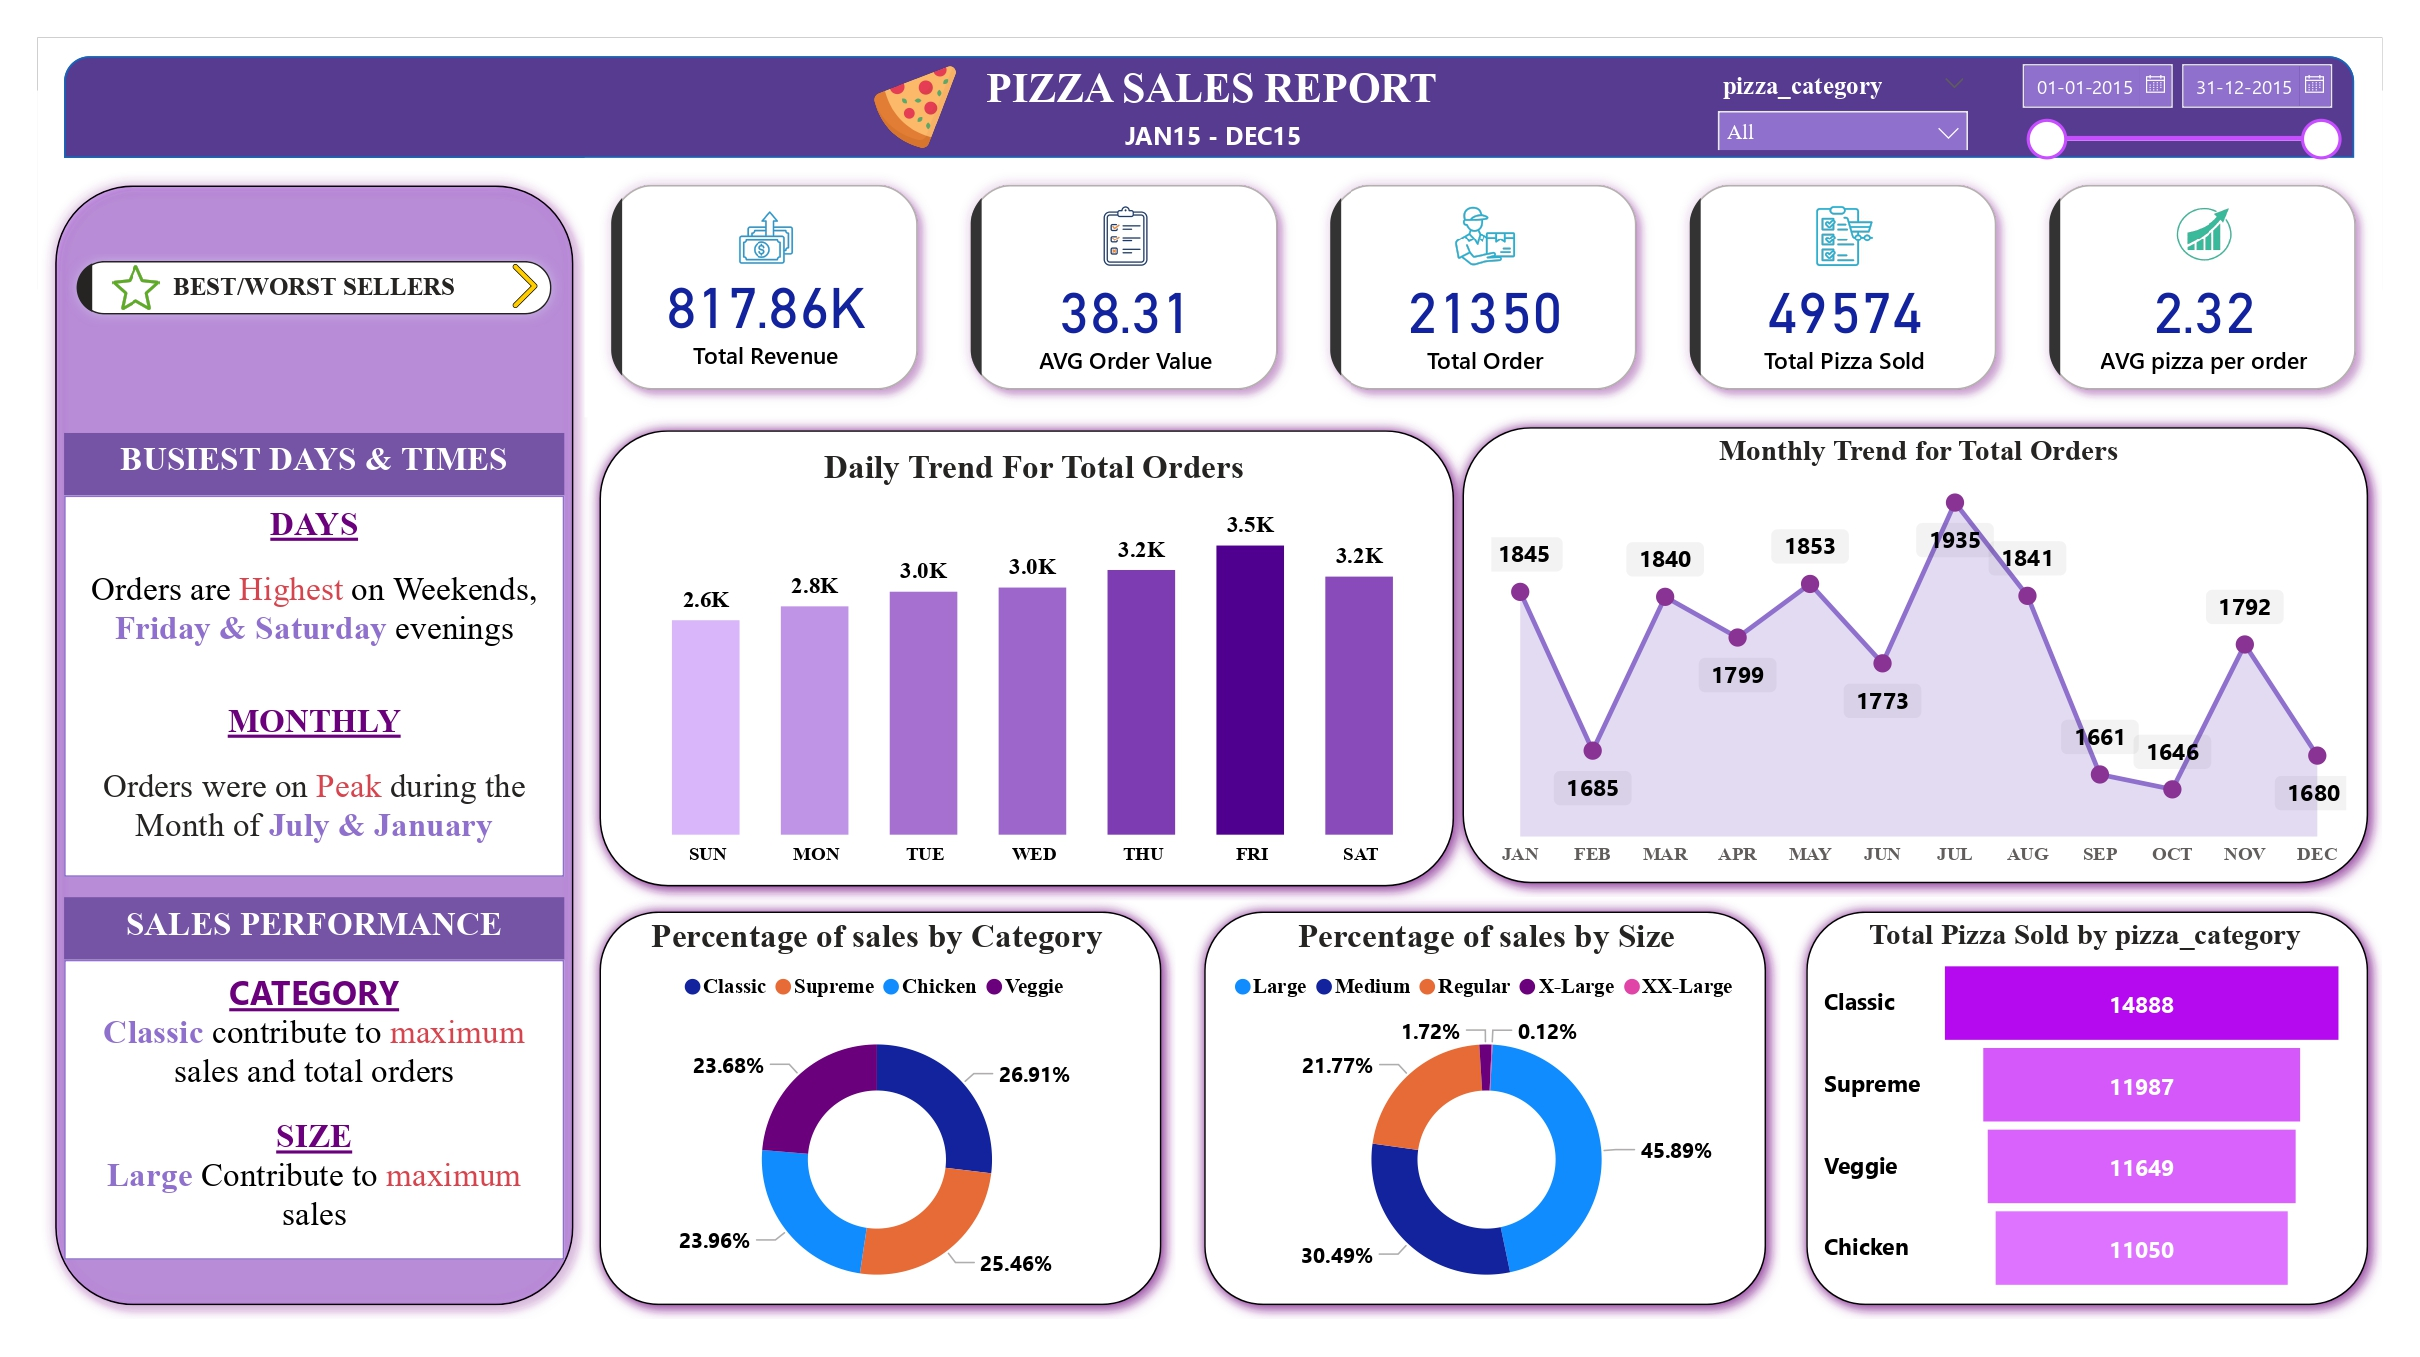

This screenshot's page, from the dashboard's own definition file:
{"tool":"powerbi","page":{"name":"HOME","canvas":[1500,820],"ordinal":0},"visuals":[{"type":"cardVisual","fields":{"Data":["pizza_sales.Total Revenue"]},"box":[350,76.7,230,165.7],"z":0,"group":"g1"},{"type":"shape","box":[16.7,11.7,1465,65],"z":0},{"type":"cardVisual","fields":{"Data":["pizza_sales.AVG Order Value"]},"box":[580,76.7,230,165.7],"z":1000,"group":"g1"},{"type":"textbox","box":[585,11.7,331.7,43.3],"z":1000},{"type":"textbox","box":[676.7,46.7,150,38.3],"z":2000},{"type":"cardVisual","fields":{"Data":["pizza_sales.Total Order"]},"box":[810,76.7,230,165.7],"z":3000,"group":"g1"},{"type":"image","box":[516.7,11.7,88.3,65],"z":3000},{"type":"shape","box":[1.7,85,350,735],"z":4000},{"type":"group","id":"g1","title":"Group 1","box":[350,76.7,1150,165.7],"z":5000},{"type":"shape","box":[350,241.7,565,310],"z":6000},{"type":"cardVisual","fields":{"Data":["pizza_sales.Total Pizza Sold"]},"box":[1040,76.7,230,165.7],"z":7000,"group":"g1"},{"type":"columnChart","title":"Daily Trend For Total Orders","fields":{"Category":["pizza_sales.Order day"],"Y":["pizza_sales.Total Order"]},"box":[373.3,263.3,528.3,273.3],"z":7000},{"type":"cardVisual","fields":{"Data":["pizza_sales.AVG pizza per order"]},"box":[1270,76.7,230,165.7],"z":8000,"group":"g1"},{"type":"shape","box":[901.7,240,598.3,310],"z":8000},{"type":"areaChart","title":"Monthly Trend for Total Orders","fields":{"Category":["pizza_sales.Order month"],"Y":["pizza_sales.Total Order"]},"box":[925,253.3,556.7,283.3],"z":9000},{"type":"shape","box":[350,550,378.3,270],"z":10000},{"type":"shape","box":[736.7,550,378.3,270],"z":11000},{"type":"shape","box":[1121.7,550,378.3,270],"z":12000},{"type":"donutChart","title":"Percentage of sales by Category","fields":{"Category":["pizza_sales.pizza_category"],"Y":["pizza_sales.Total Revenue"]},"box":[361.7,563.3,350,256.7],"z":13000},{"type":"donutChart","title":"Percentage of sales by Size","fields":{"Y":["pizza_sales.Total Revenue"],"Category":["pizza_sales.pizza_size"]},"box":[751.7,563.3,350,256.7],"z":14000},{"type":"funnel","fields":{"Y":["pizza_sales.Total Pizza Sold"],"Category":["pizza_sales.pizza_category"]},"box":[1138.3,563.3,343.3,245],"z":15000},{"type":"textbox","box":[16.7,253.3,320,40],"z":16000},{"type":"textbox","box":[16.7,293.3,320,243.3],"z":17000},{"type":"textbox","box":[16.7,550,320,40],"z":18000},{"type":"textbox","box":[16.7,590,320,191.7],"z":19000},{"type":"slicer","fields":{"Values":["pizza_sales.pizza_category"]},"box":[1065,16.7,180,55],"z":19001},{"type":"slicer","fields":{"Values":["pizza_sales.order_date"]},"box":[1256.7,6.7,225,78.3],"z":19002},{"type":"pageNavigator","box":[16.7,135,320,50],"z":19003},{"type":"image","box":[286.7,140,50,38.3],"z":19004},{"type":"image","box":[30,140,65,40],"z":19005}]}

Visuals, with their boxes in screenshot pixels (x1, y1, x2, y2):
cardVisual - pizza_sales.Total Revenue: bbox(585, 157, 944, 416)
shape: bbox(64, 56, 2354, 157)
cardVisual - pizza_sales.AVG Order Value: bbox(944, 157, 1304, 416)
textbox: bbox(952, 56, 1471, 124)
textbox: bbox(1095, 111, 1330, 170)
cardVisual - pizza_sales.Total Order: bbox(1304, 157, 1663, 416)
image: bbox(845, 56, 983, 157)
shape: bbox(40, 170, 587, 1319)
"Group 1" group: bbox(585, 157, 2382, 416)
shape: bbox(585, 415, 1468, 900)
cardVisual - pizza_sales.Total Pizza Sold: bbox(1663, 157, 2023, 416)
"Daily Trend For Total Orders" columnChart: bbox(621, 449, 1447, 876)
cardVisual - pizza_sales.AVG pizza per order: bbox(2023, 157, 2382, 416)
shape: bbox(1447, 413, 2382, 897)
"Monthly Trend for Total Orders" areaChart: bbox(1484, 434, 2354, 876)
shape: bbox(585, 897, 1176, 1319)
shape: bbox(1189, 897, 1781, 1319)
shape: bbox(1791, 897, 2382, 1319)
"Percentage of sales by Category" donutChart: bbox(603, 918, 1150, 1319)
"Percentage of sales by Size" donutChart: bbox(1213, 918, 1760, 1319)
funnel - pizza_sales.Total Pizza Sold x pizza_sales.pizza_category: bbox(1817, 918, 2354, 1301)
textbox: bbox(64, 434, 564, 496)
textbox: bbox(64, 496, 564, 876)
textbox: bbox(64, 897, 564, 960)
textbox: bbox(64, 960, 564, 1260)
slicer - pizza_sales.pizza_category: bbox(1702, 64, 1984, 150)
slicer - pizza_sales.order_date: bbox(2002, 48, 2354, 170)
pageNavigator: bbox(64, 249, 564, 327)
image: bbox(486, 256, 564, 316)
image: bbox(84, 256, 186, 319)
